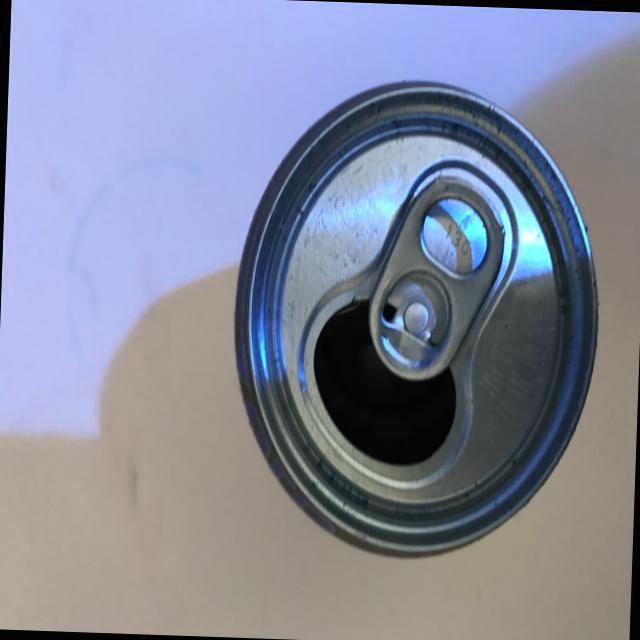metal: (216, 24, 618, 580)
